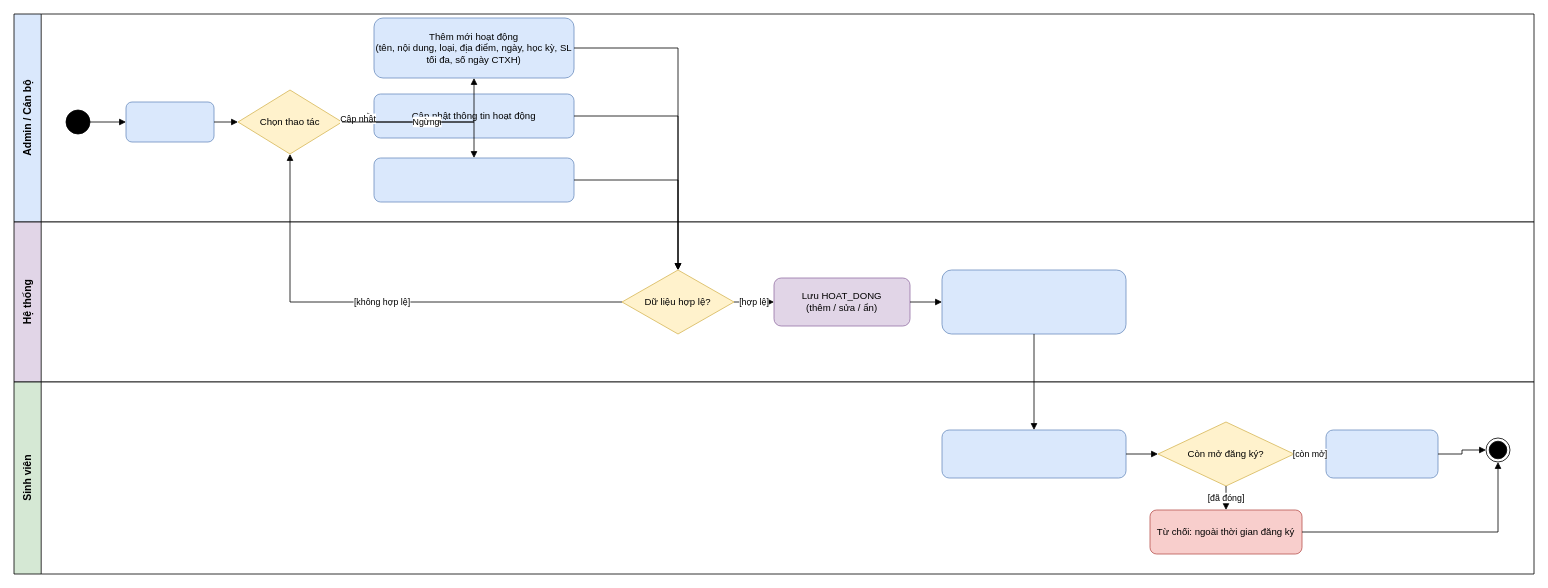
This 1548x588 diagram has some shape labels left out. Each missing label, with the centre of its shape:
"Cập nhật trạng thái: sap_dien_ra → mo_dang_ky → da_dong → ket_thuc" goes at (x=1033, y=301).
"Ngừng hiển thị hoạt động" goes at (x=473, y=179).
"Xem thông tin hoạt động" goes at (x=1033, y=453).
"Đăng ký tham gia" goes at (x=1381, y=453).
"Đăng nhập hệ thống" goes at (x=169, y=121).
